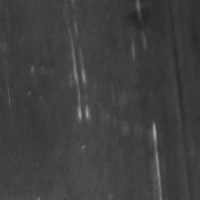inclusion: (166, 3, 199, 199)
scratches: (62, 19, 96, 122), (143, 115, 172, 199)
